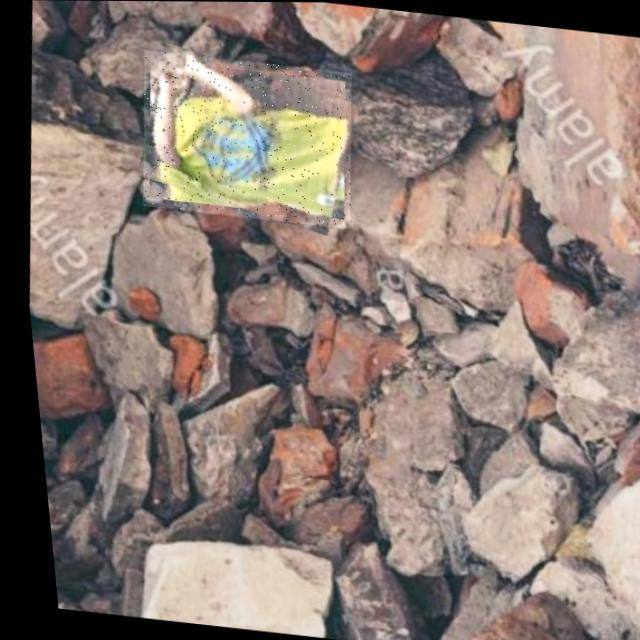Person in Rubble: (127, 48, 361, 228)
